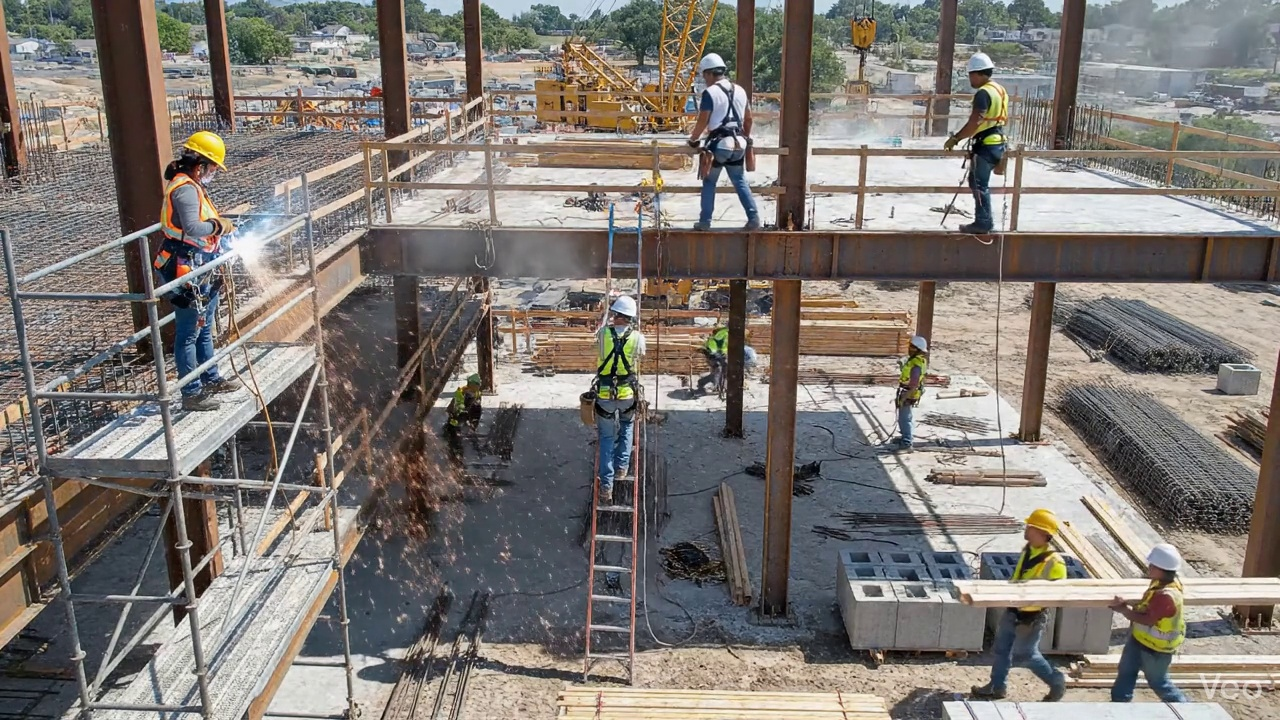PG: (972, 607, 1065, 701), (1011, 509, 1066, 581), (895, 335, 927, 448), (444, 374, 481, 466), (695, 323, 728, 400)
PH: (688, 53, 759, 229), (153, 131, 234, 284), (943, 52, 1008, 234), (593, 295, 645, 505), (167, 274, 220, 377), (181, 366, 239, 410)
